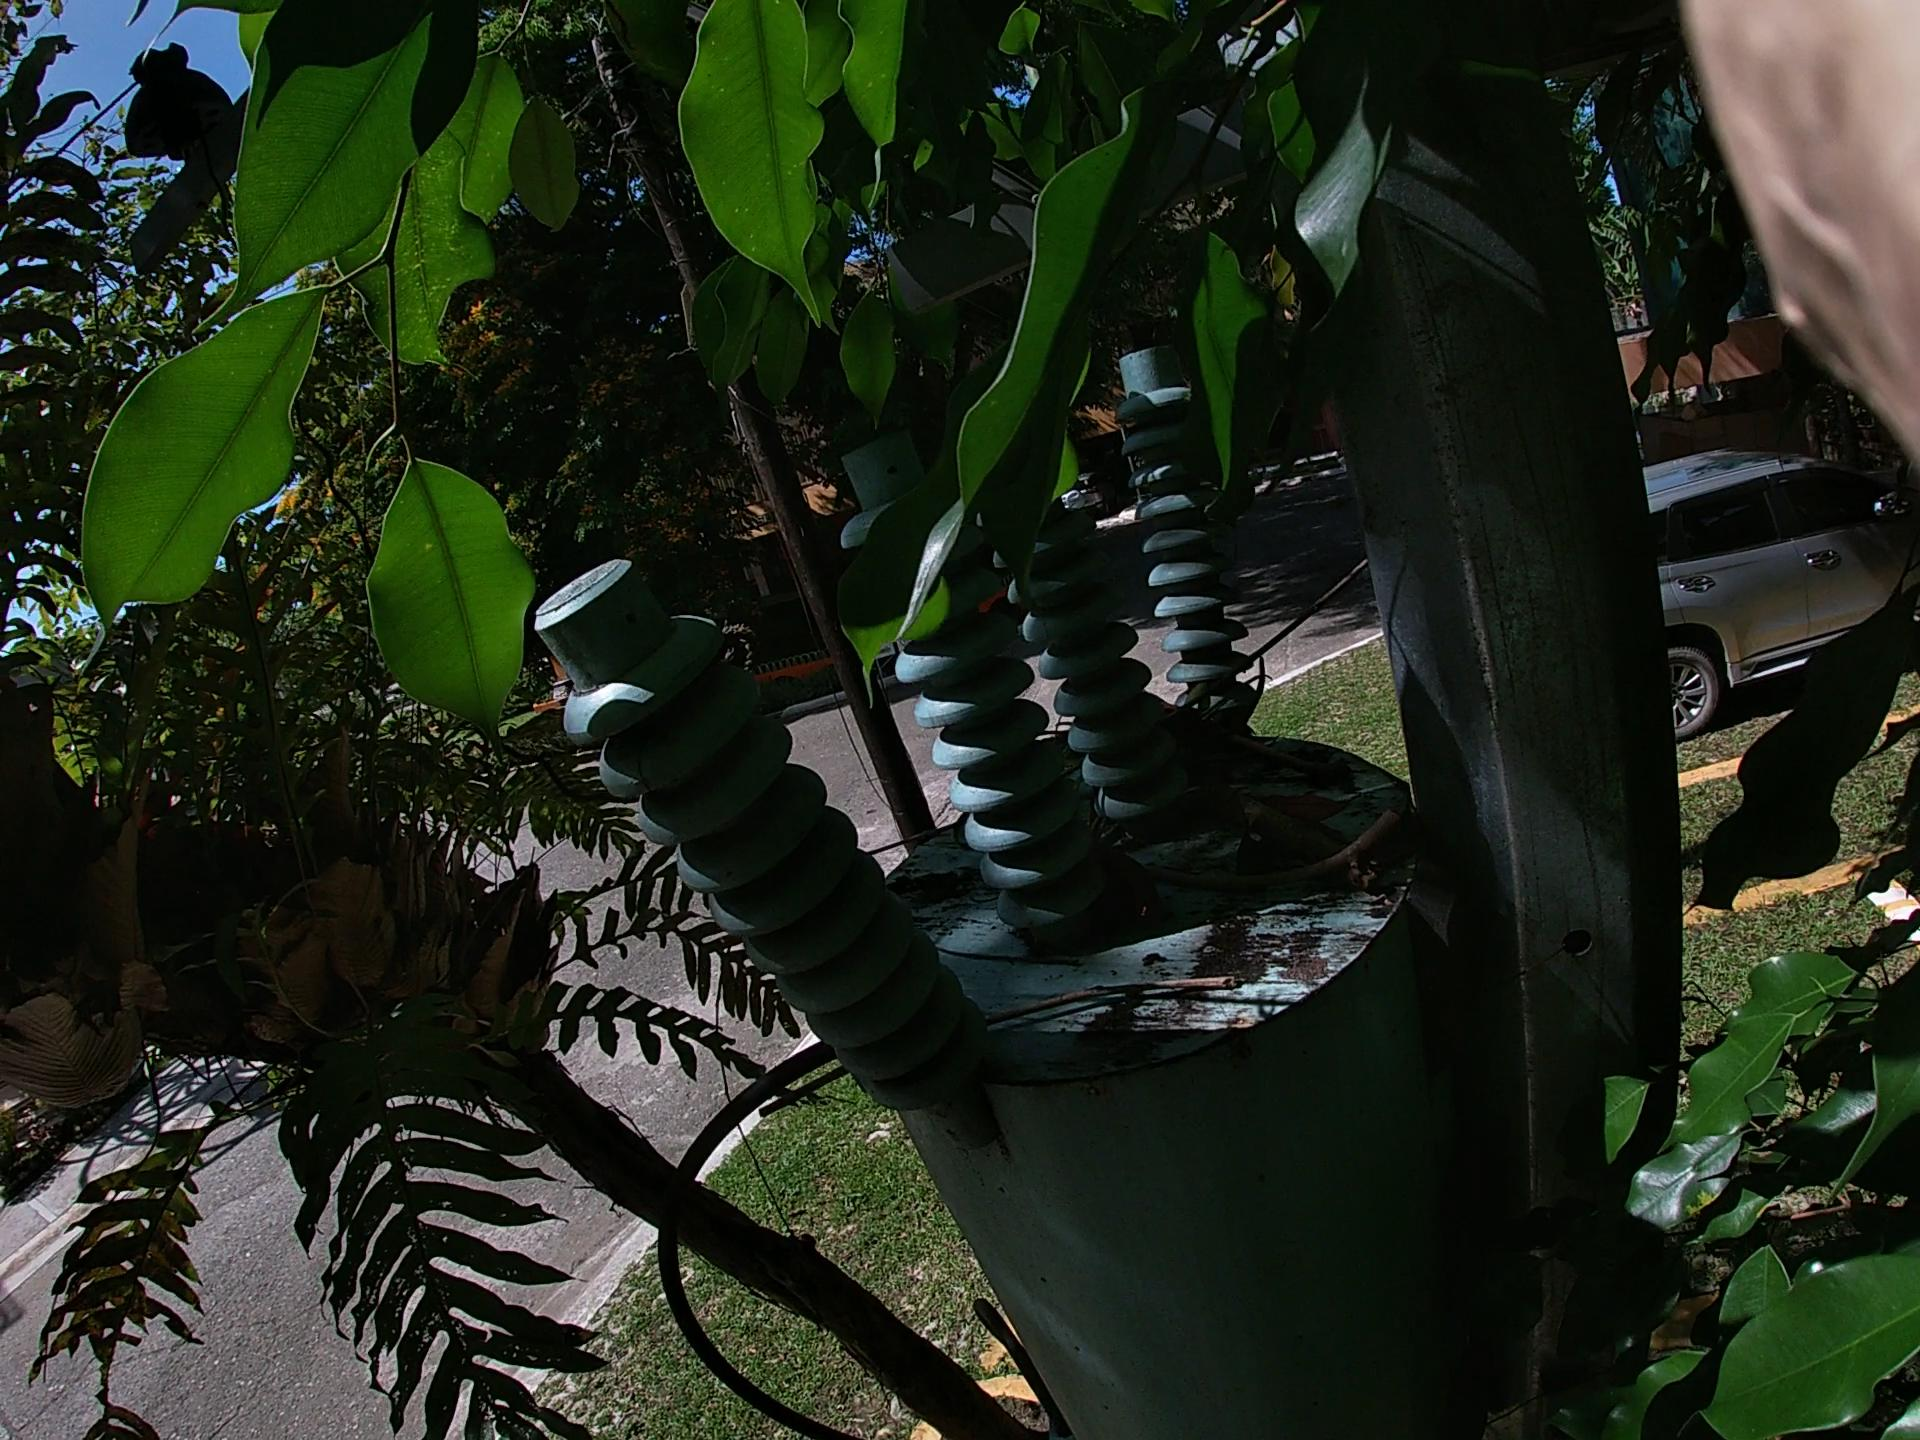leaf: (1253, 755, 1341, 870)
tree branch: (425, 393, 1541, 1271), (736, 953, 1274, 1133), (1095, 711, 1379, 889), (1089, 791, 1412, 914)
